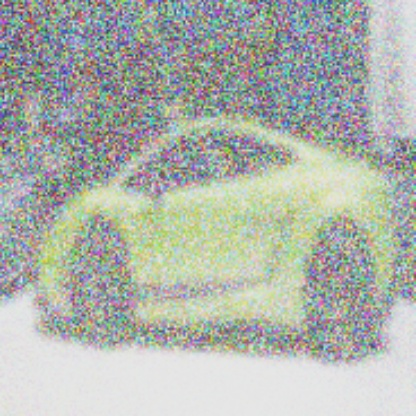Vehicle: (35, 121, 396, 367)
